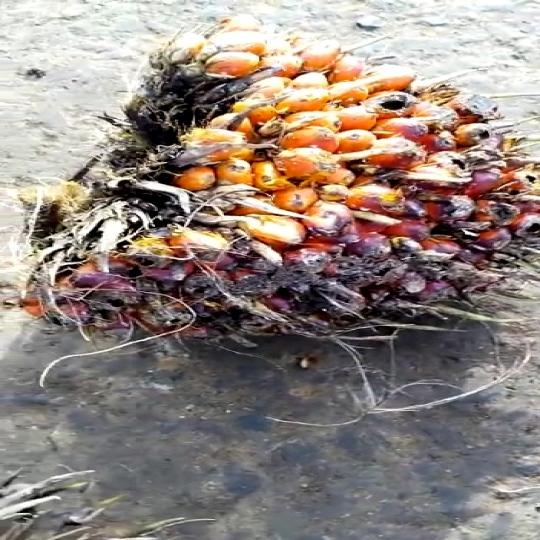masak: (53, 33, 540, 359)
